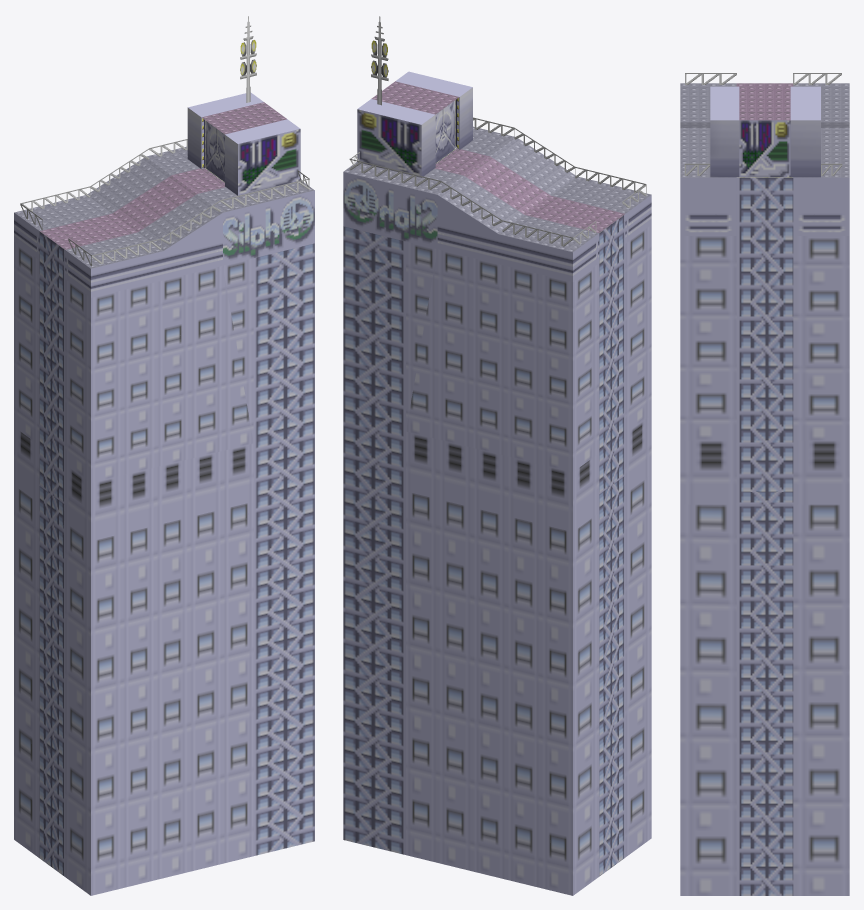
Rendered from saffron1.glb.
3 views of the same model, side by side, from view 1: azimuth 30°, elevation 25°; view 2: azimuth 150°, elevation 25°; view 3: azimuth 270°, elevation 25° (orthographic). The views are drawn at different scales.
Visible parts, largest first — view 1: city; view 2: city; view 3: city.
Boxes of the visible parts, x1,y1,x2,y2 form: city: [14, 16, 314, 895]; city: [343, 16, 651, 895]; city: [680, 73, 849, 895].
Size of the model in its own units: 3.63 by 12.24 by 2.16.
Materials: 1 (1 with a texture image).
